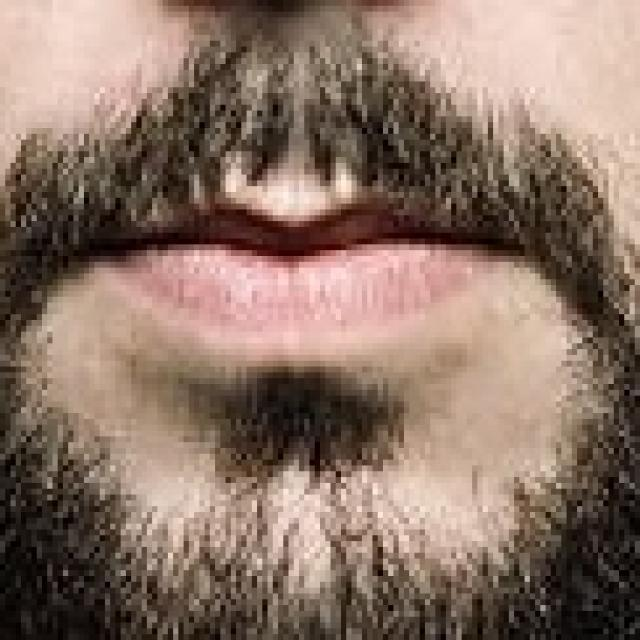closed-mouth: (96, 188, 506, 334)
